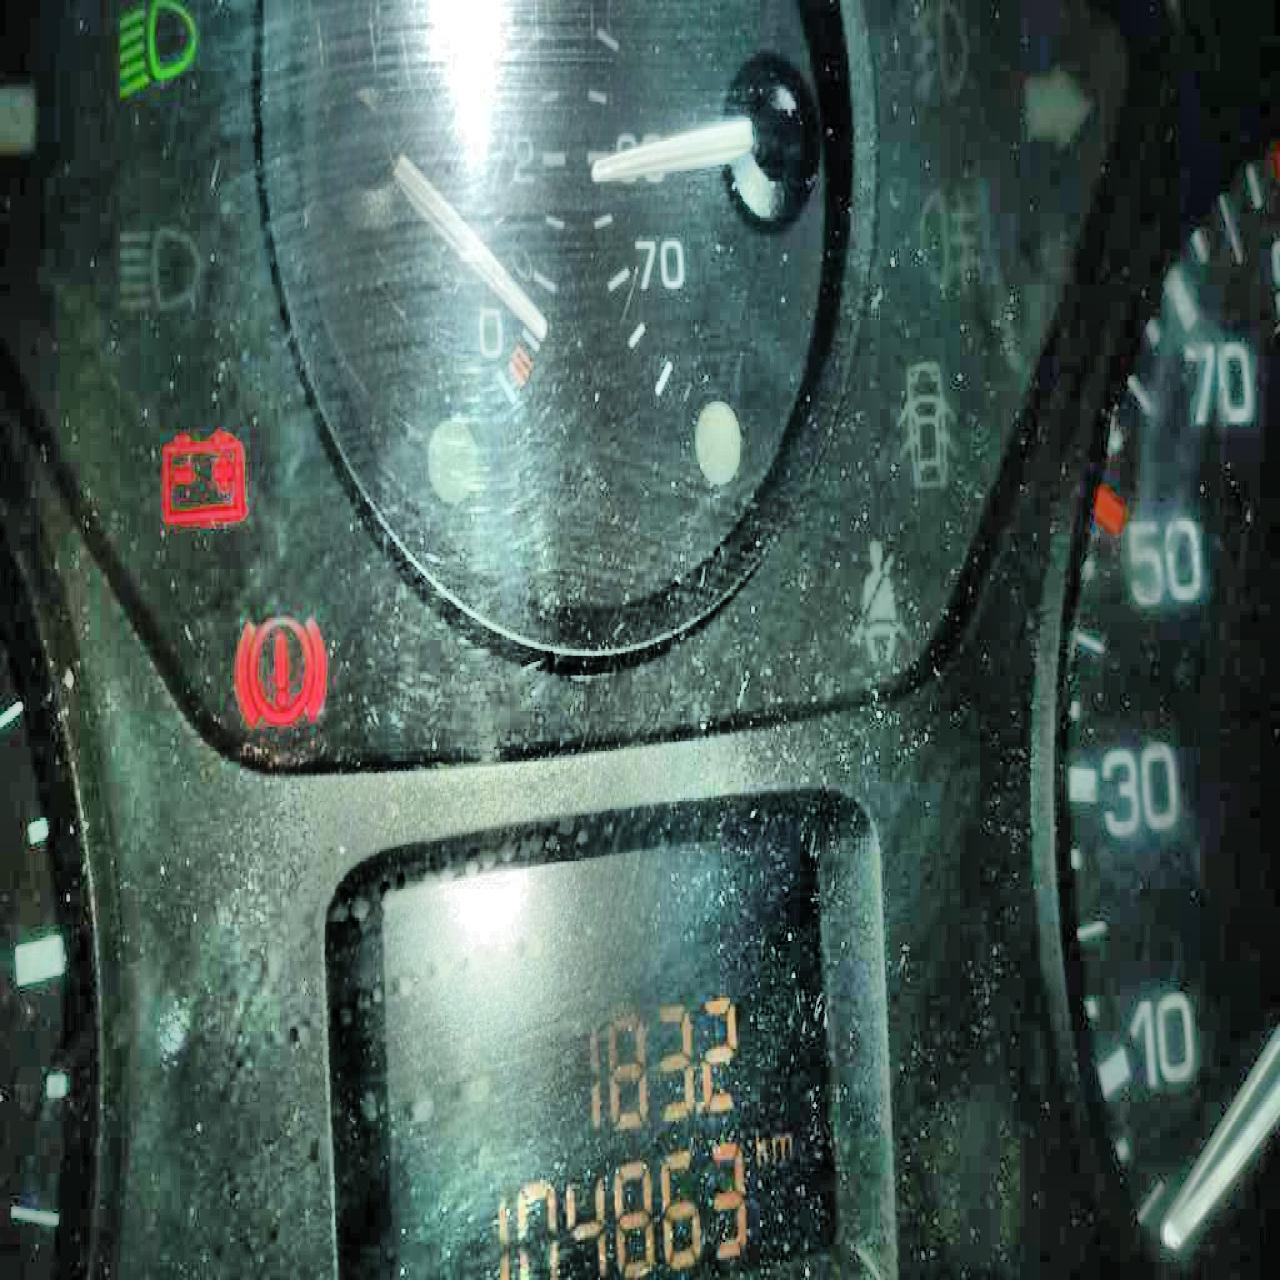0: (515, 1176, 559, 1278)
1: (585, 1020, 601, 1133), (495, 1193, 511, 1278)
2: (700, 995, 737, 1111)
3: (708, 1138, 748, 1260), (654, 1005, 695, 1119)
4: (564, 1173, 607, 1278)
6: (659, 1149, 702, 1269)
8: (611, 1158, 655, 1278), (607, 1005, 647, 1133)
X: (770, 1129, 792, 1164), (753, 1129, 768, 1171)
odometer: (375, 821, 846, 1278)
